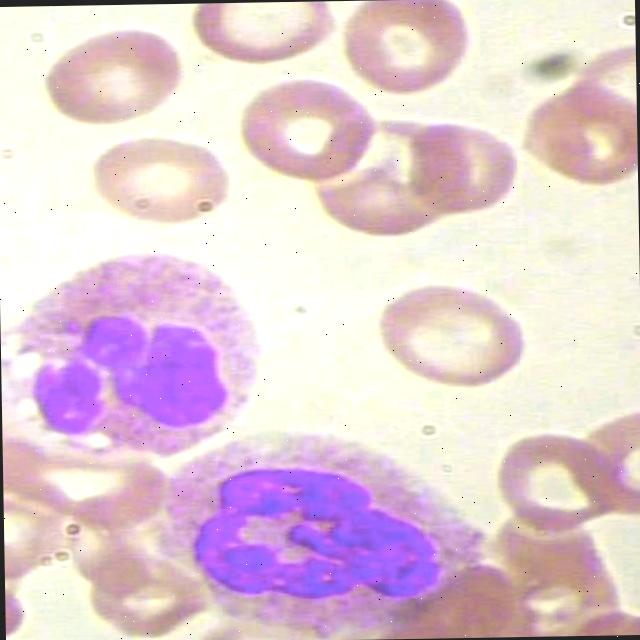RBC: (365, 270, 531, 396), (83, 122, 249, 248), (31, 21, 198, 146), (490, 422, 628, 534), (242, 78, 379, 190), (400, 110, 537, 222), (342, 0, 482, 98), (521, 80, 638, 192), (178, 0, 345, 70)
WBC: (139, 419, 493, 640), (0, 227, 272, 460)
